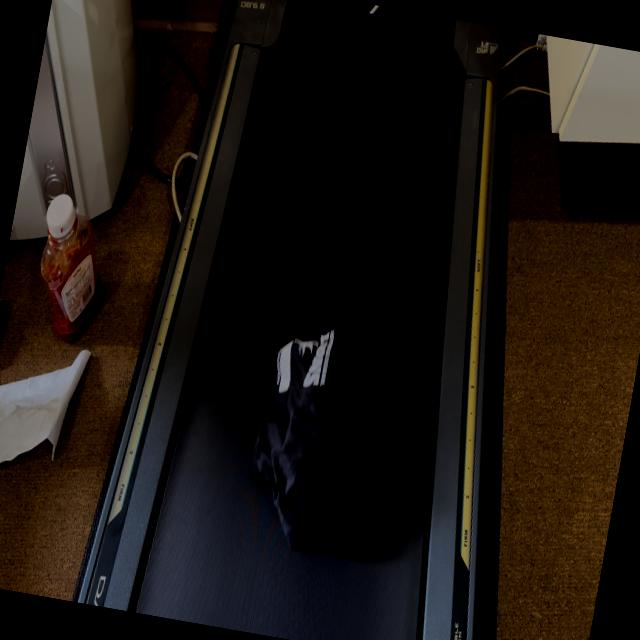Trash: (235, 302, 427, 566)
